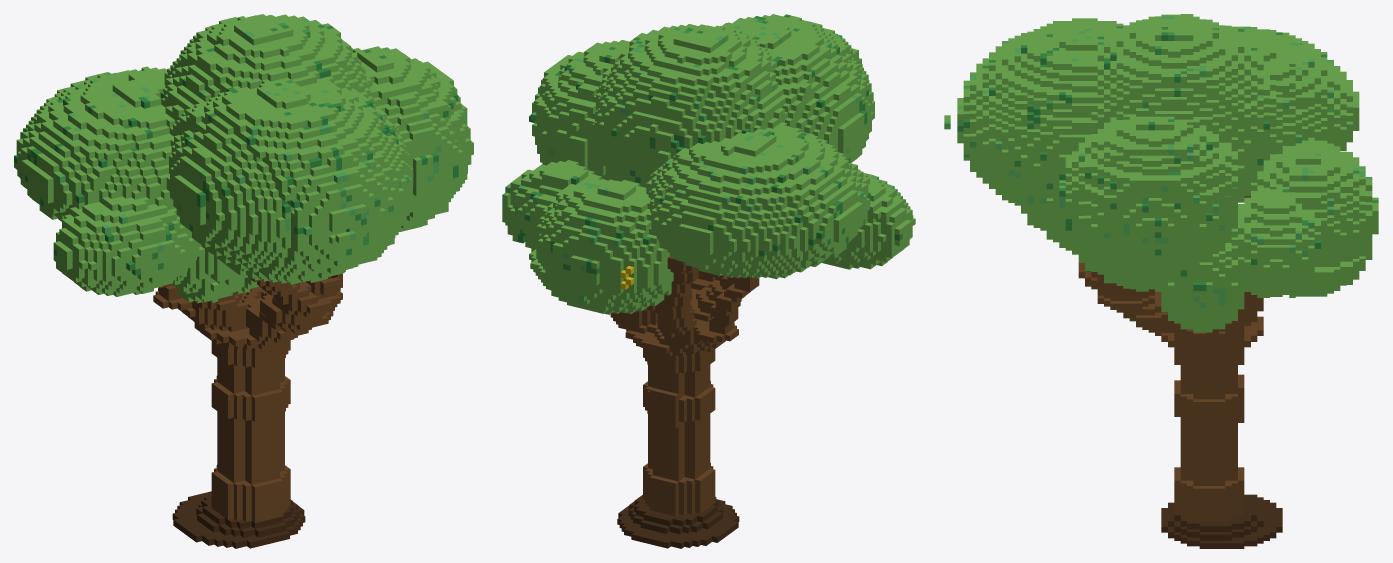
File: 1_3 caja.obj
The picture shows the model from 3 angles, left to right: view 1: azimuth 30°, elevation 25°; view 2: azimuth 150°, elevation 25°; view 3: azimuth 270°, elevation 25°; orthographic projection. The views are drawn at different scales.
Bounding box in the file's own units: 6.9 × 8.6 × 6.8.
1 material, 1 textured.
